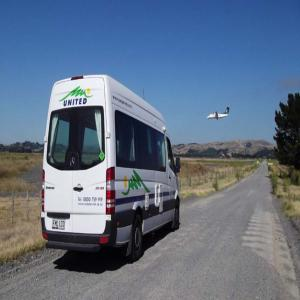Vehicle-registration-plate: (53, 219, 66, 230)
